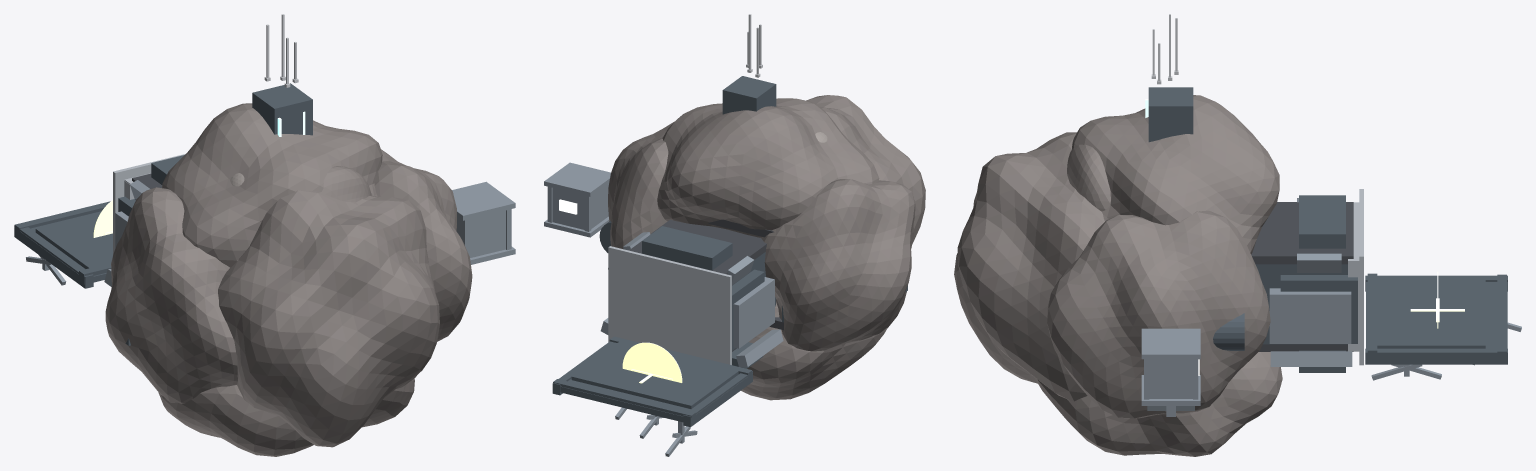
The model's file is StartingHQ.glb.
The picture shows the model from 3 angles, left to right: view 1: azimuth 30°, elevation 25°; view 2: azimuth 150°, elevation 25°; view 3: azimuth 270°, elevation 25°; orthographic projection. The views are drawn at different scales.
Visible parts, largest first — view 1: RockRear, RockLeft, RockTop, RockRight, RockBottom, LandingPlatform, DockTerminal, CommandSpire, RockRearTop, HangarEntranceFrame, HangarExteriorShell, HangarButtressL; view 2: RockTop, RockLeft, HangarEntranceFrame, LandingPlatform, RockRight, RockBottom, RockRear, DockTerminal, HangarExteriorShell, HangarButtressL, HangarTunnelCeiling, CommandSpire (+2 smaller); view 3: RockRight, RockRear, RockTop, LandingPlatform, RockBottom, HangarButtressR, DockTerminal, HangarExteriorShell, HangarTunnelCeiling, CommandSpire, RockRearTop, HangarEntranceFrame (+3 smaller).
Boxes of the visible parts, bbox=[...] form: RockRear: bbox=[218, 190, 439, 447]; RockLeft: bbox=[105, 187, 237, 403]; RockTop: bbox=[162, 103, 382, 267]; RockRight: bbox=[374, 149, 472, 341]; RockBottom: bbox=[158, 378, 414, 456]; LandingPlatform: bbox=[14, 201, 112, 288]; DockTerminal: bbox=[452, 181, 515, 264]; CommandSpire: bbox=[252, 83, 312, 135]; RockRearTop: bbox=[322, 166, 371, 202]; HangarEntranceFrame: bbox=[113, 154, 185, 254]; HangarExteriorShell: bbox=[118, 155, 184, 216]; HangarButtressL: bbox=[104, 180, 150, 286]; RockTop: bbox=[657, 98, 879, 237]; RockLeft: bbox=[761, 179, 915, 351]; HangarEntranceFrame: bbox=[608, 246, 731, 364]; LandingPlatform: bbox=[552, 336, 752, 427]; RockRight: bbox=[608, 121, 674, 249]; RockBottom: bbox=[741, 302, 886, 400]; RockRear: bbox=[806, 95, 925, 243]; DockTerminal: bbox=[544, 162, 610, 237]; HangarExteriorShell: bbox=[642, 226, 764, 368]; HangarButtressL: bbox=[727, 256, 783, 367]; HangarTunnelCeiling: bbox=[628, 219, 766, 274]; CommandSpire: bbox=[722, 76, 776, 114]; RockRight: bbox=[1047, 210, 1270, 418]; RockRear: bbox=[954, 132, 1104, 401]; RockTop: bbox=[1072, 95, 1279, 254]; LandingPlatform: bbox=[1365, 273, 1507, 364]; RockBottom: bbox=[1033, 352, 1282, 456]; HangarButtressR: bbox=[1269, 253, 1352, 366]; DockTerminal: bbox=[1141, 328, 1200, 405]; HangarExteriorShell: bbox=[1280, 195, 1357, 372]; HangarTunnelCeiling: bbox=[1251, 202, 1353, 264]; CommandSpire: bbox=[1148, 87, 1193, 142]; RockRearTop: bbox=[1067, 144, 1110, 211]; HangarEntranceFrame: bbox=[1348, 189, 1363, 365].
Size of the model in its own units: 8.37 by 8.53 by 10.43.
